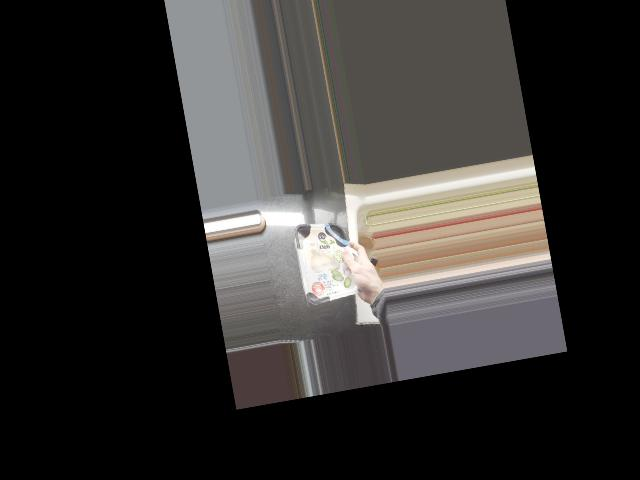cheese: (293, 217, 365, 305)
